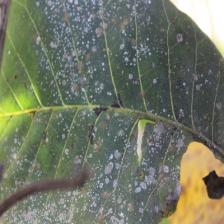red rust: (202, 169, 224, 199)
